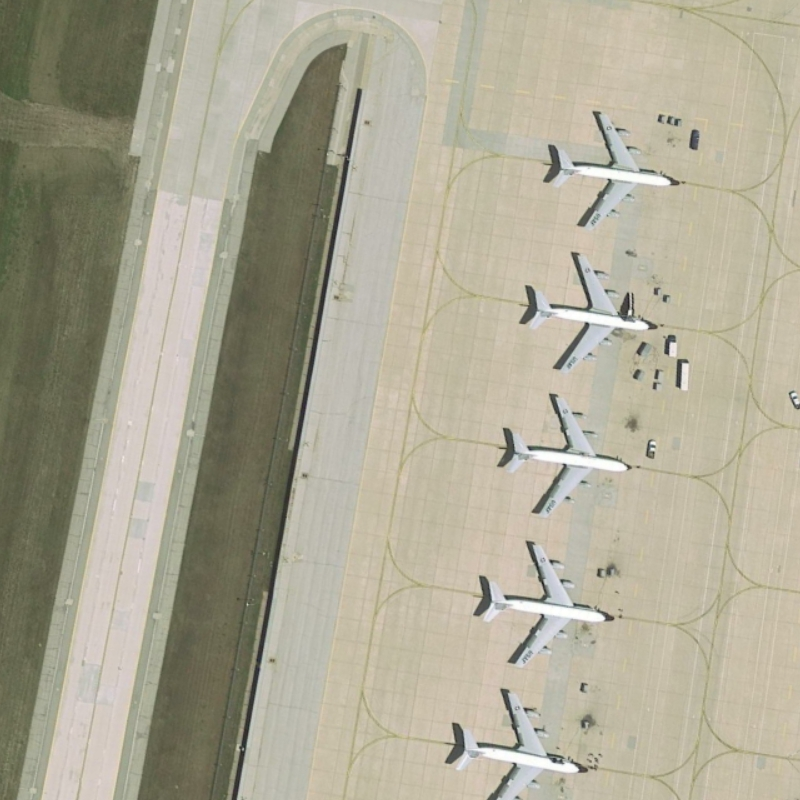A11: (469, 531, 624, 669), (487, 385, 632, 521), (533, 105, 683, 233), (513, 248, 662, 374), (443, 684, 593, 800)
